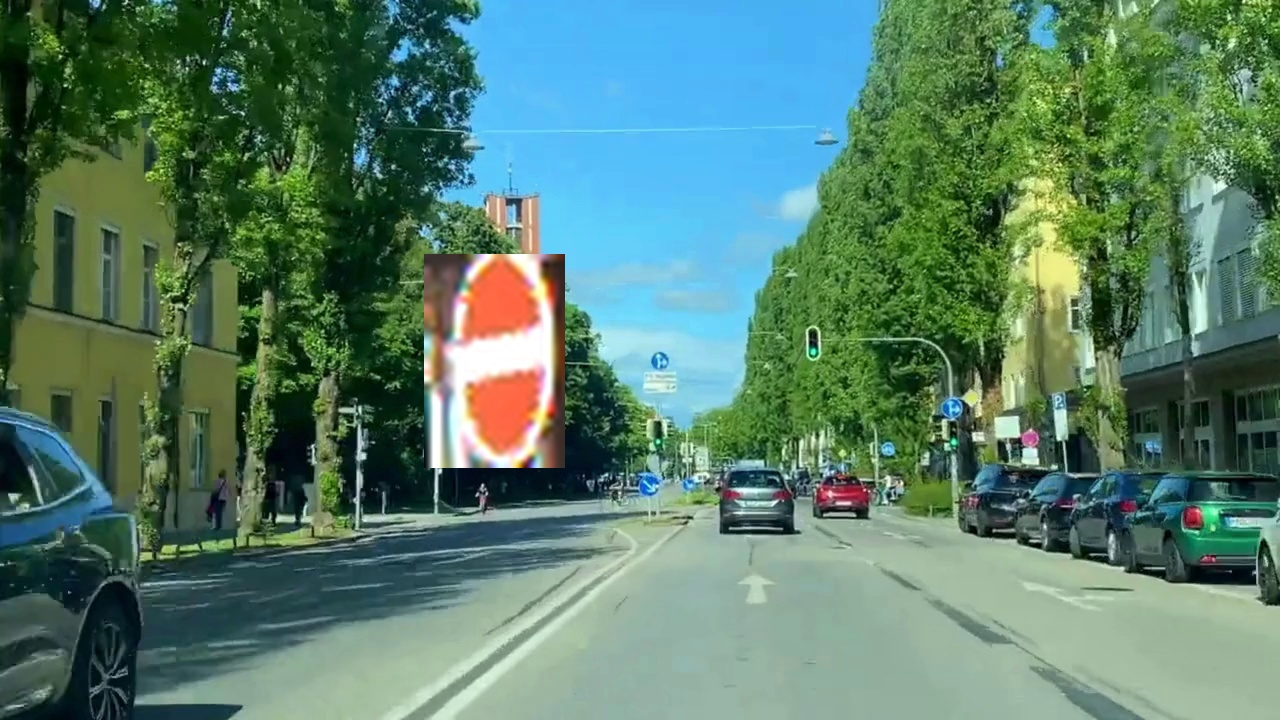No entry: (424, 254, 565, 468)
